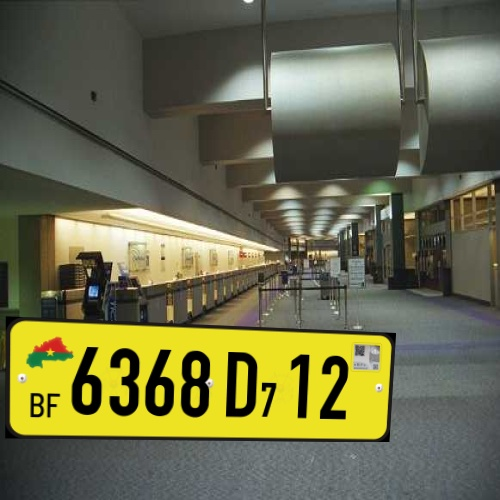plate: (3, 307, 412, 453)
